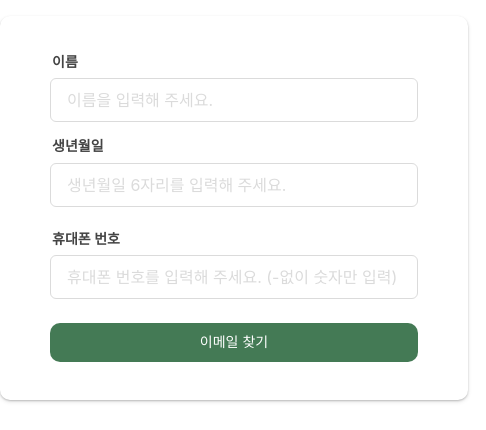
Test: 이메일 찾기 폼 테스트 › 각 인풋의 형식에 맞지 않는 값을 입력 후 포커스가 사라져 에러 메시지가 화면에 보일 때, 다시 인풋을 클릭하면 에러 메시지가 사라진 후 다시 포커스가 사라지면 에러메시지가 보여야 한다.
This screenshot has width=486, height=430.
In the field labelled "생년월일": (234, 185) [50,163,418,207], type "00010"
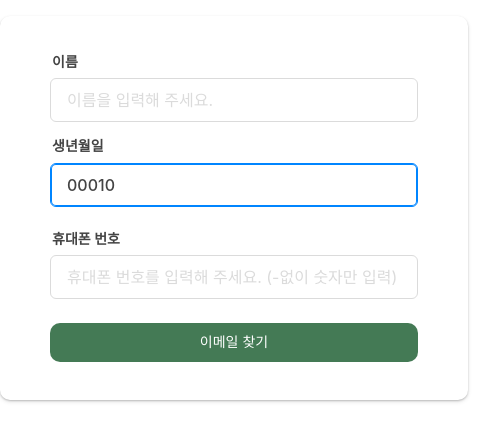
Click the form named "find-email": (234, 208) [0,16,468,400]
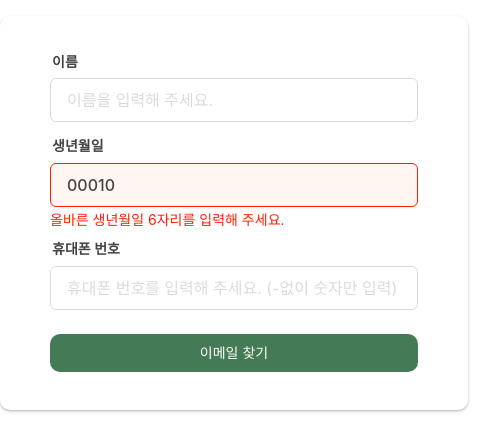
Click the field labelled "생년월일": (234, 185) [50,163,418,207]
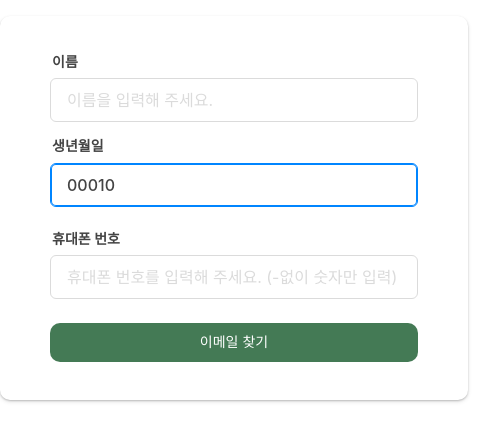
Click the form named "find-email": (234, 208) [0,16,468,400]
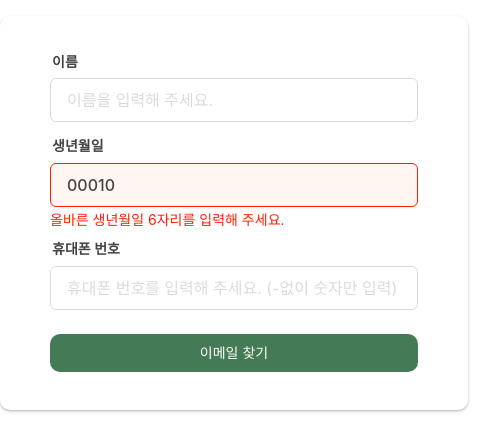
expect the text "올바른 생년월일 6자리를 입력해 주세요." is shown: met, box [50,211,284,228]
